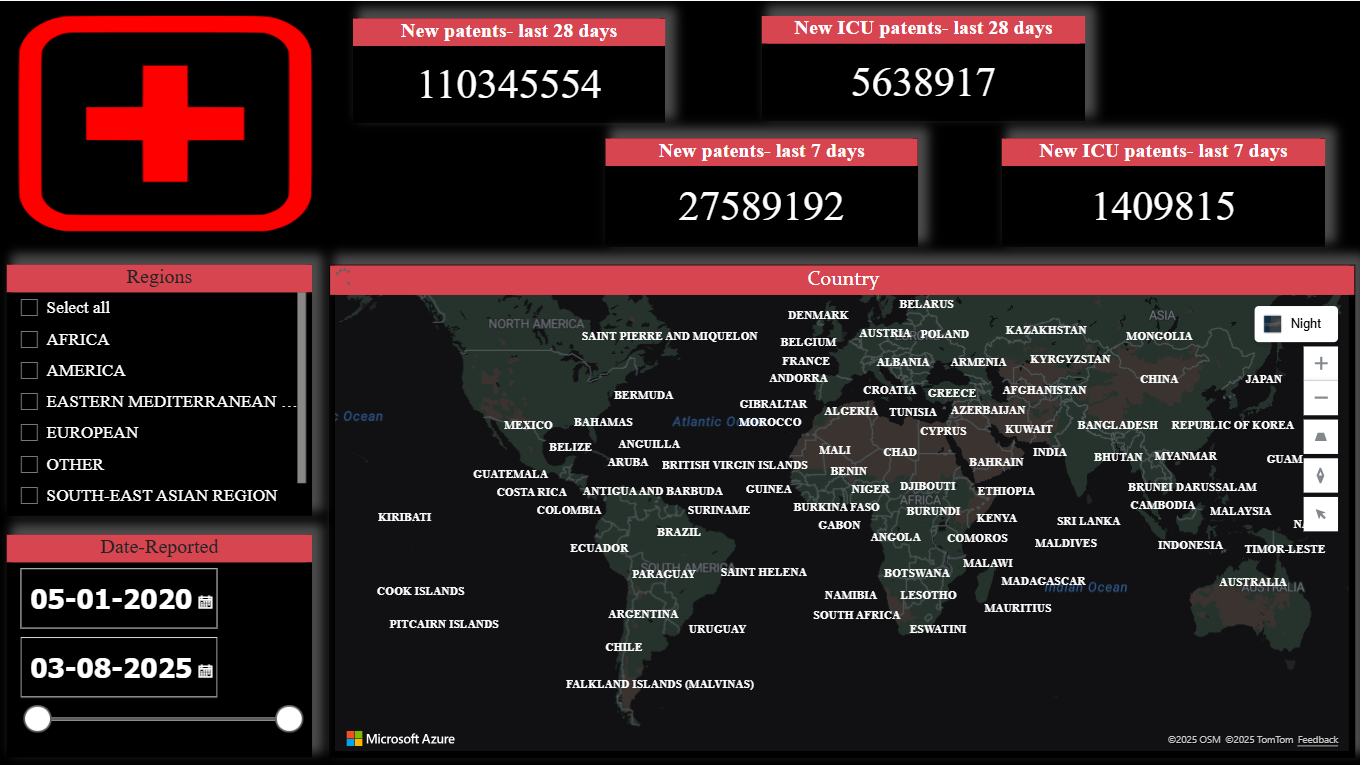

What the dashboard file says about the page in this screenshot:
{"tool":"powerbi","page":{"name":"Hospitalities","canvas":[1280,720],"ordinal":2},"visuals":[{"type":"azureMap","fields":{"Category":["WHO-COVID-19-global-hosp-icu-data.Country"]},"box":[312.8,245.3,954.7,458.1],"z":0},{"type":"slicer","title":"Date-Reported","fields":{"Values":["WHO-COVID-19-global-hosp-icu-data.Date_reported"]},"box":[12.8,496.5,283.7,207],"z":1000},{"type":"slicer","title":"Regions","fields":{"Values":["WHO-COVID-19-global-hosp-icu-data.WHO_region"]},"box":[12.8,245.3,283.7,233.7],"z":2000},{"type":"card","title":"New ICU patents- last 7 days","fields":{"Values":["Sum(WHO-COVID-19-global-hosp-icu-data.Covid_new_icu_admissions_last_7days)"]},"box":[938.4,127.9,301.2,101.2],"z":3000},{"type":"card","title":"New patents- last 28 days","fields":{"Values":["Sum(WHO-COVID-19-global-hosp-icu-data.Covid_new_hospitalizations_last_28days)"]},"box":[334.9,16.3,290.7,97.7],"z":4000},{"type":"card","title":"New ICU patents- last 28 days","fields":{"Values":["Sum(WHO-COVID-19-global-hosp-icu-data.Covid_new_icu_admissions_last_28days)"]},"box":[715.1,14,301.2,97.7],"z":5000},{"type":"card","title":"New patents- last 7 days","fields":{"Values":["Sum(WHO-COVID-19-global-hosp-icu-data.Covid_new_hospitalizations_last_7days)"]},"box":[569.8,127.9,290.7,101.2],"z":6000},{"type":"image","box":[18.6,8.1,283.7,211.6],"z":7000}]}

Visuals, with their boxes in screenshot pixels (x1, y1, x2, y2), scaled from the page's 1280x720 canvas onto the 1360x765 screenshot:
azureMap - WHO-COVID-19-global-hosp-icu-data.Country: locate(332, 261, 1347, 747)
"Date-Reported" slicer: locate(14, 528, 315, 747)
"Regions" slicer: locate(14, 261, 315, 509)
"New ICU patents- last 7 days" card: locate(997, 136, 1317, 243)
"New patents- last 28 days" card: locate(356, 17, 665, 121)
"New ICU patents- last 28 days" card: locate(760, 15, 1080, 119)
"New patents- last 7 days" card: locate(605, 136, 914, 243)
image: locate(20, 9, 321, 233)
